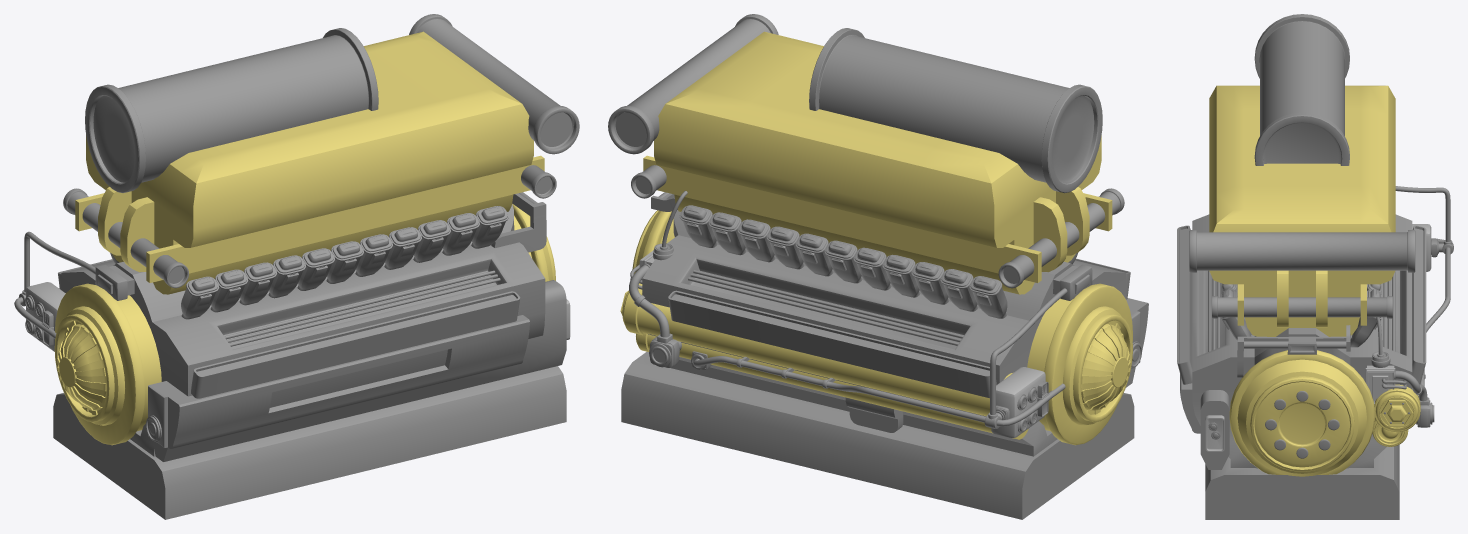
File: 发电机.fbx
3 views of the same model, side by side, from view 1: azimuth 30°, elevation 25°; view 2: azimuth 150°, elevation 25°; view 3: azimuth 270°, elevation 25° (orthographic). The views are drawn at different scales.
Visible parts, largest first — view 1: 发电机2; view 2: 发电机2; view 3: 发电机2.
Boxes of the visible parts, bbox=[...] form: 发电机2: bbox=[14, 14, 579, 519]; 发电机2: bbox=[608, 14, 1148, 519]; 发电机2: bbox=[1177, 14, 1453, 519].
Bounding box in the file's own units: 554 × 446 × 332.
